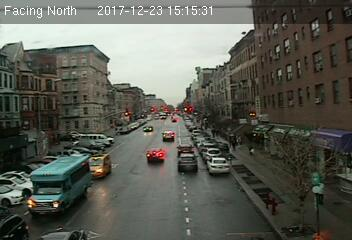car: (88, 153, 112, 178), (206, 156, 230, 174), (177, 153, 198, 171), (146, 147, 165, 161), (176, 143, 195, 155), (161, 131, 175, 141)
truck: (25, 155, 93, 215)
